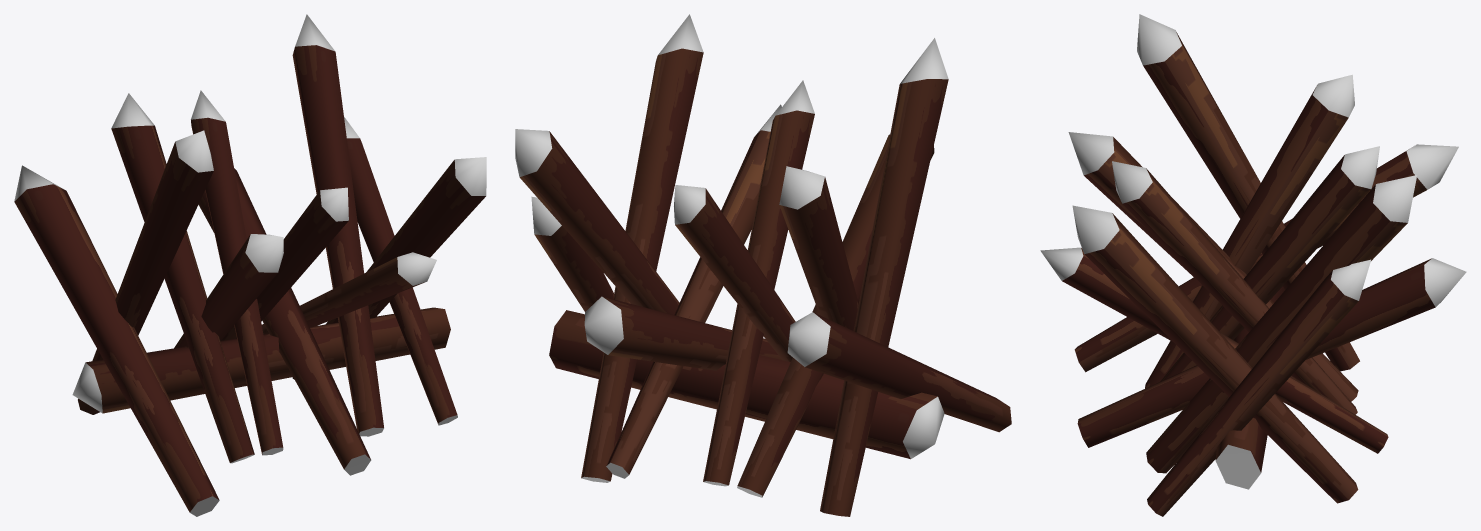
Rendered from SM_PROP_spikes_v01_03.fbx.
The picture shows the model from 3 angles, left to right: view 1: azimuth 30°, elevation 25°; view 2: azimuth 150°, elevation 25°; view 3: azimuth 270°, elevation 25°; orthographic projection. The views are drawn at different scales.
Parts seen in each view (by area): view 1: SM_PROP_spikes_v01_03; view 2: SM_PROP_spikes_v01_03; view 3: SM_PROP_spikes_v01_03.
Part boxes in pixels (x1,y1,x2,y2): SM_PROP_spikes_v01_03: [14, 14, 486, 516]; SM_PROP_spikes_v01_03: [515, 14, 1011, 516]; SM_PROP_spikes_v01_03: [1040, 14, 1466, 516].
Size of the model in its own units: 199 by 204 by 204.
